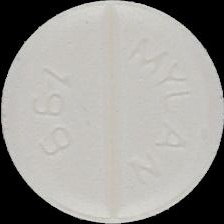55289-970: (0, 0, 224, 224)
